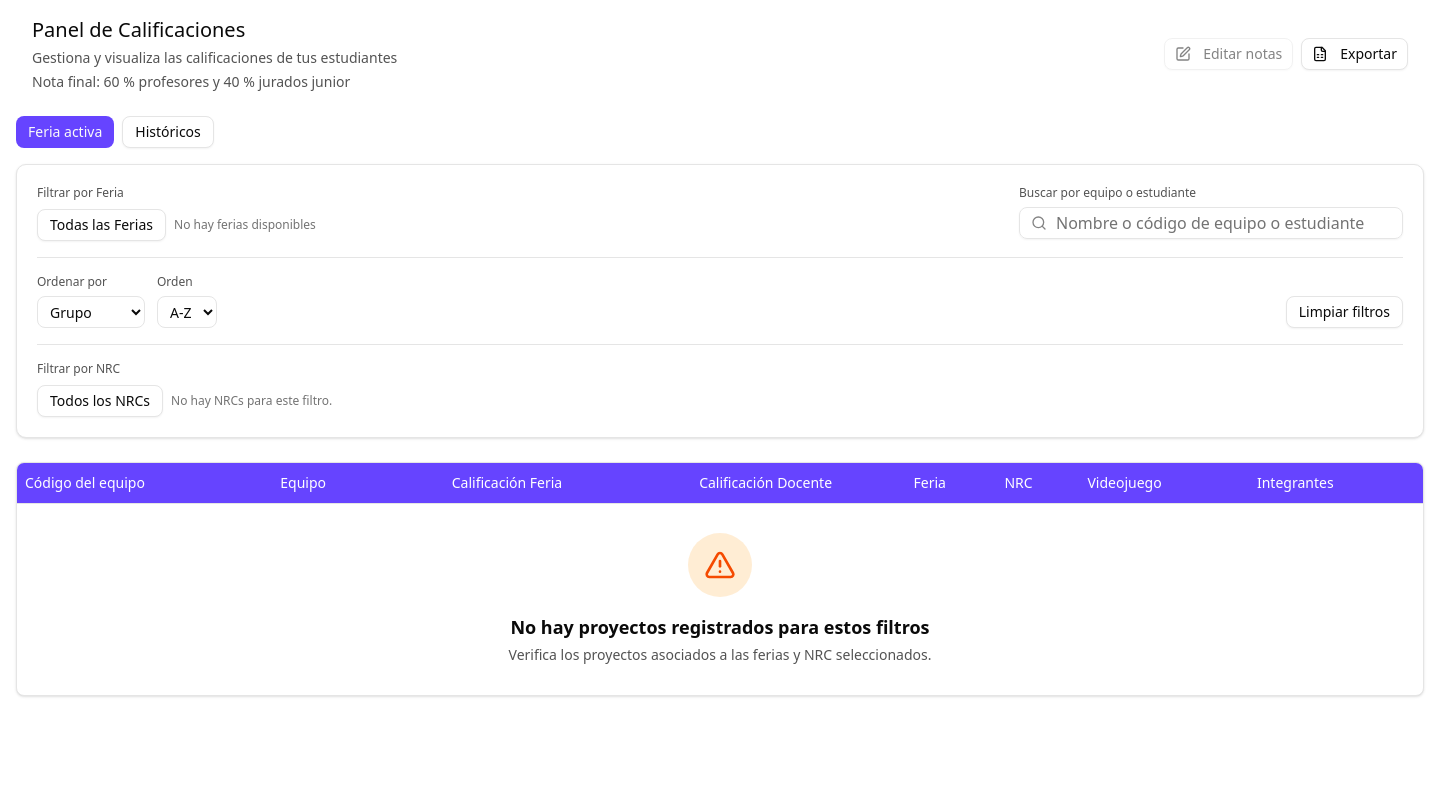
Test: StudentGradeTable › deshabilita la exportacion en la pestana de historicos
The width and height of the screenshot is (1440, 810).
Expected: the button with aria-label "exportar resultados filtrados" is enabled, [1301,38,1408,70]
Step 1. Click the tab "Históricos" → (168, 132), box [122,116,214,148]
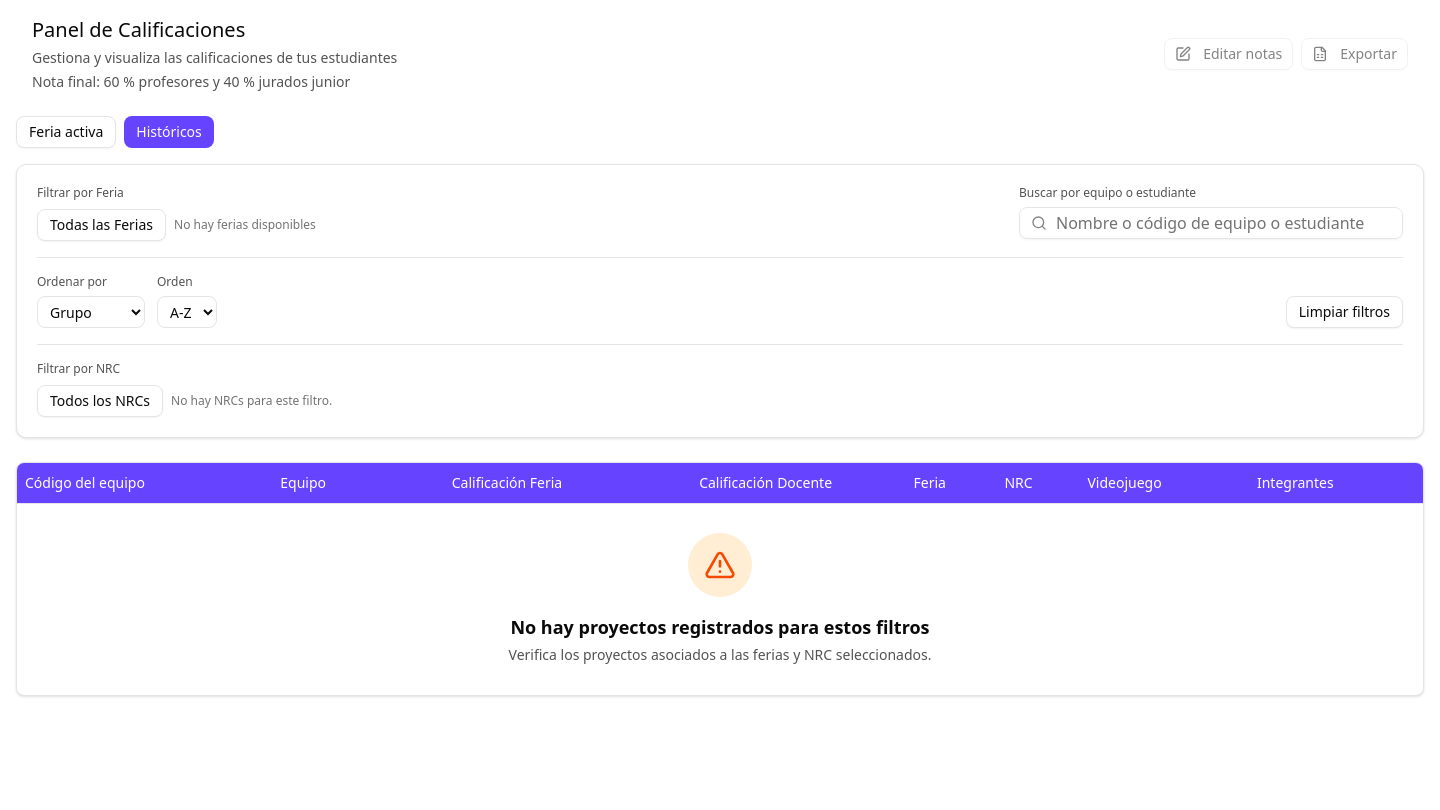
Expected: the button with aria-label "exportar resultados filtrados" is disabled, [1301,38,1408,70]
